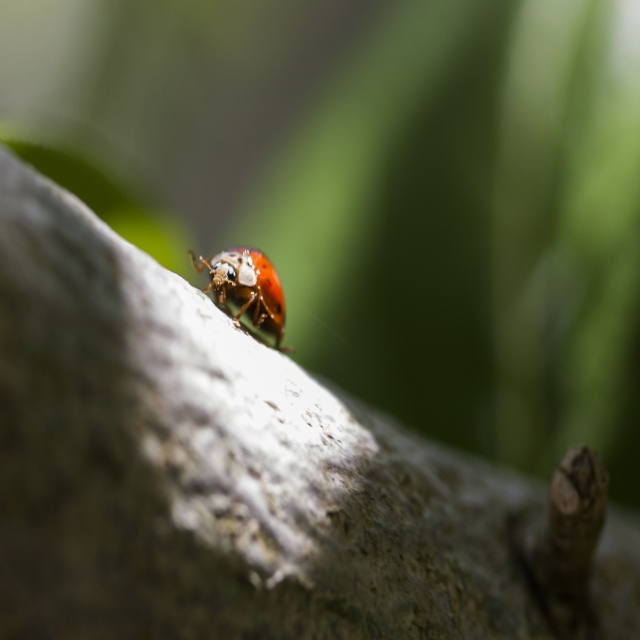Ladybug: (188, 247, 287, 350)
